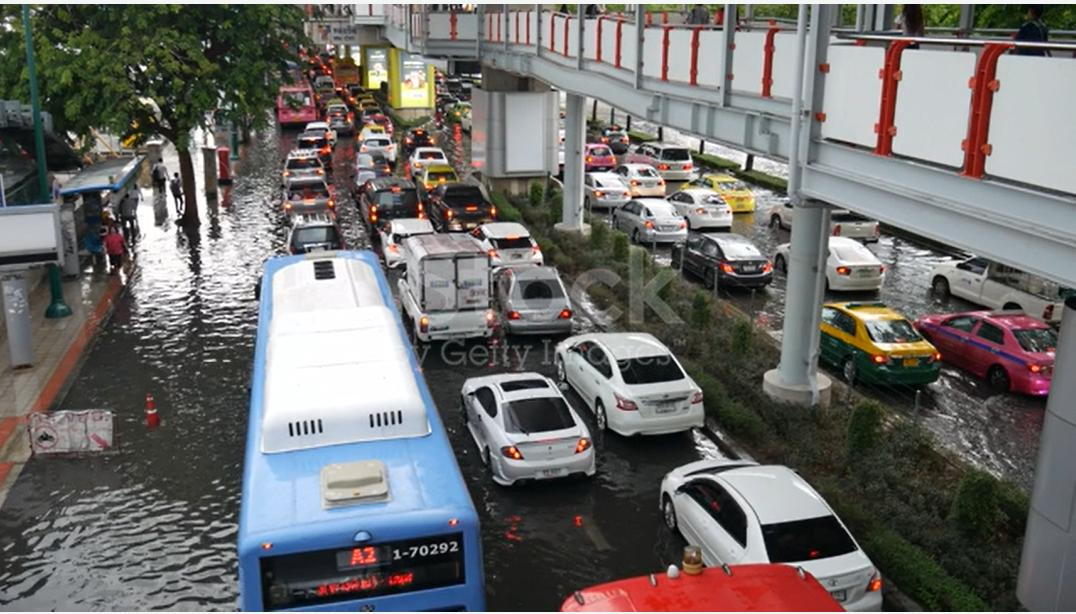bus: (199, 229, 520, 614)
car: (630, 443, 935, 614), (439, 352, 622, 502), (549, 307, 715, 467), (773, 273, 965, 404), (896, 297, 1076, 421), (490, 261, 571, 354), (687, 225, 785, 295), (798, 237, 909, 290), (603, 187, 694, 250), (429, 175, 501, 240)
truck: (389, 235, 517, 364)
